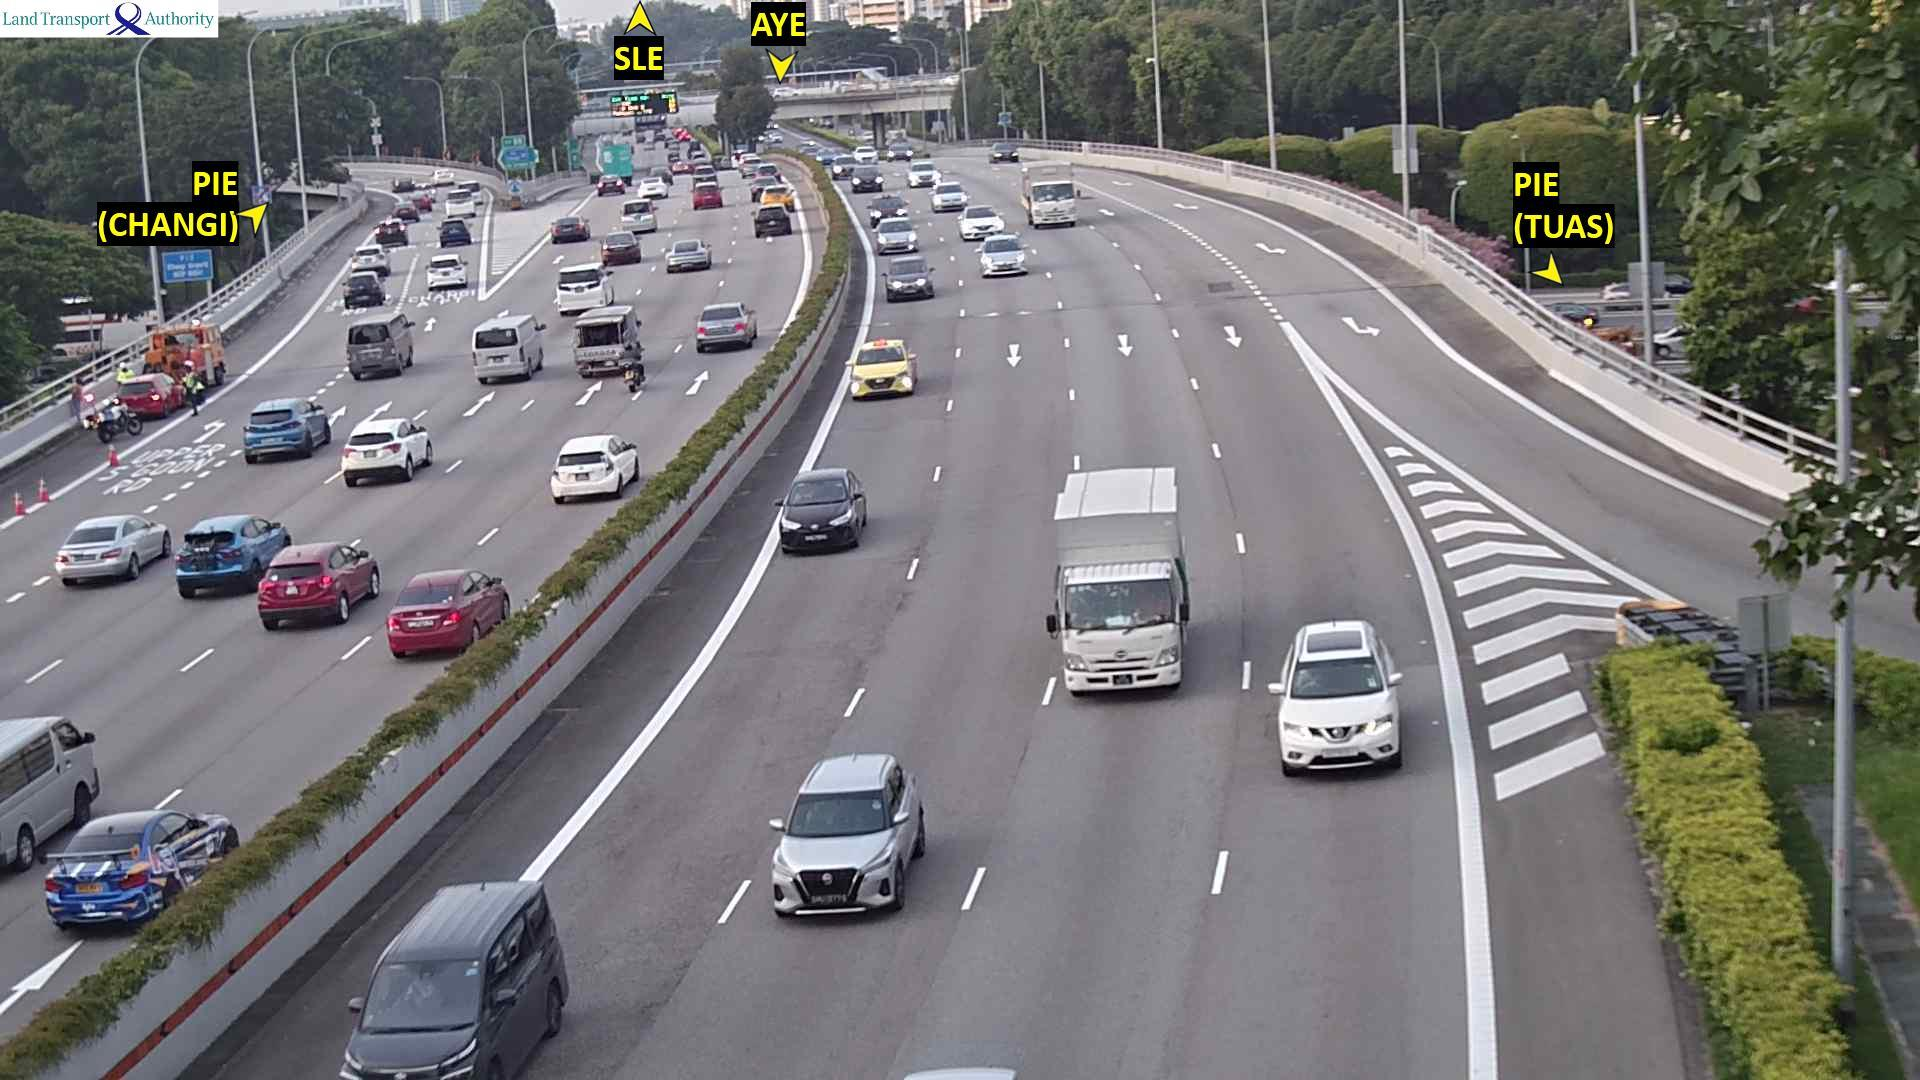cars: (338, 877, 568, 1077), (767, 750, 926, 918), (42, 807, 237, 932), (1266, 618, 1403, 775), (0, 713, 100, 872), (256, 538, 381, 630), (385, 567, 510, 658), (173, 512, 291, 597), (53, 514, 171, 585), (773, 465, 868, 553), (340, 415, 433, 487), (549, 433, 640, 502), (241, 396, 332, 463), (469, 310, 546, 382), (571, 303, 644, 378), (344, 310, 414, 380), (845, 338, 916, 400), (113, 371, 185, 419), (553, 261, 615, 315), (694, 301, 757, 352), (1600, 273, 1676, 314), (882, 255, 935, 301), (977, 231, 1027, 277), (957, 203, 1004, 241), (663, 237, 712, 272), (874, 216, 919, 253), (342, 272, 386, 309), (425, 252, 467, 290), (599, 229, 641, 265), (865, 193, 909, 225), (1651, 322, 1691, 357), (618, 198, 657, 233), (349, 243, 390, 276), (752, 204, 791, 237), (754, 181, 796, 211), (928, 181, 968, 212), (1553, 302, 1600, 328), (549, 214, 589, 243), (444, 187, 477, 222), (373, 215, 407, 247), (436, 218, 471, 247), (905, 160, 940, 187), (454, 179, 485, 208), (851, 165, 884, 193), (389, 198, 422, 224), (692, 181, 723, 208), (636, 175, 669, 199), (831, 153, 858, 181), (595, 173, 625, 196), (852, 142, 882, 166), (411, 181, 440, 204), (988, 140, 1018, 162), (647, 165, 675, 189), (754, 162, 785, 183), (389, 173, 417, 195), (692, 164, 719, 185), (886, 142, 914, 162), (741, 158, 766, 179), (431, 166, 456, 187), (409, 191, 433, 212), (794, 140, 823, 157), (816, 148, 840, 166), (729, 149, 749, 169), (671, 161, 694, 175), (690, 149, 709, 165), (684, 137, 704, 153), (720, 154, 735, 170), (666, 149, 683, 161), (770, 132, 785, 144)
motorcycle: (82, 396, 142, 443)
trucks: (1044, 459, 1191, 695), (142, 318, 227, 386), (1019, 161, 1079, 228), (600, 140, 637, 187)
